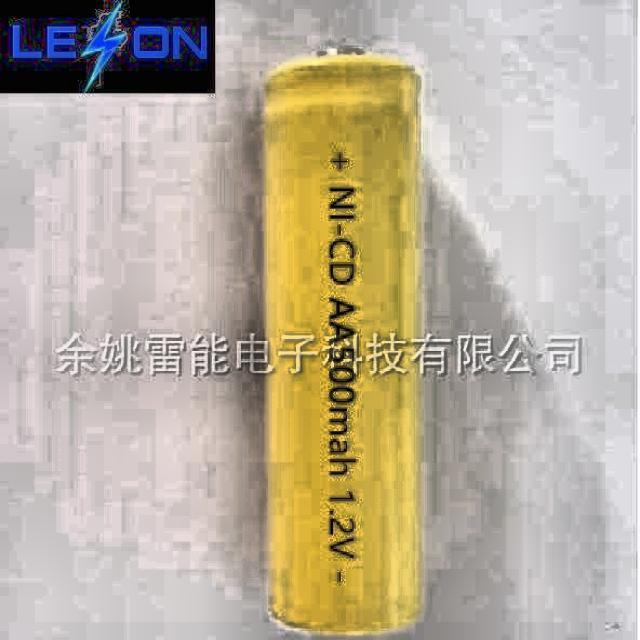battery: (265, 54, 421, 630)
